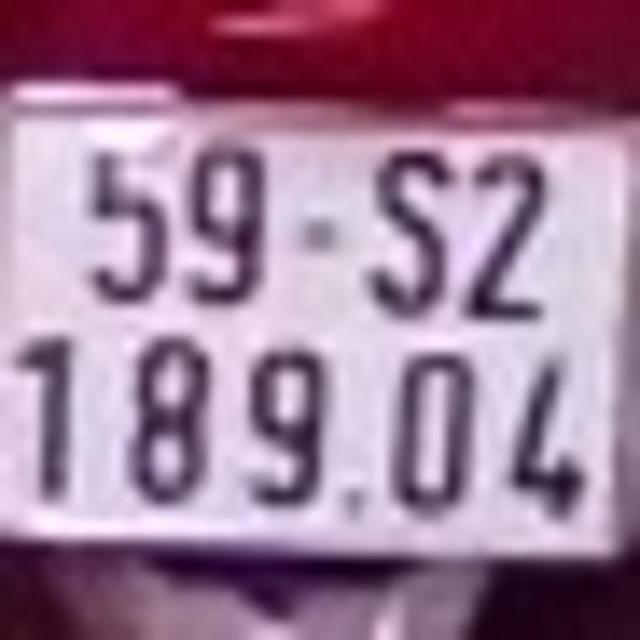0: (390, 345, 477, 518)
1: (13, 328, 76, 502)
2: (465, 144, 551, 325)
4: (508, 350, 589, 523)
5: (86, 136, 171, 304)
8: (130, 330, 210, 507)
9: (246, 342, 324, 509), (187, 141, 265, 306)
S: (367, 142, 452, 318)
